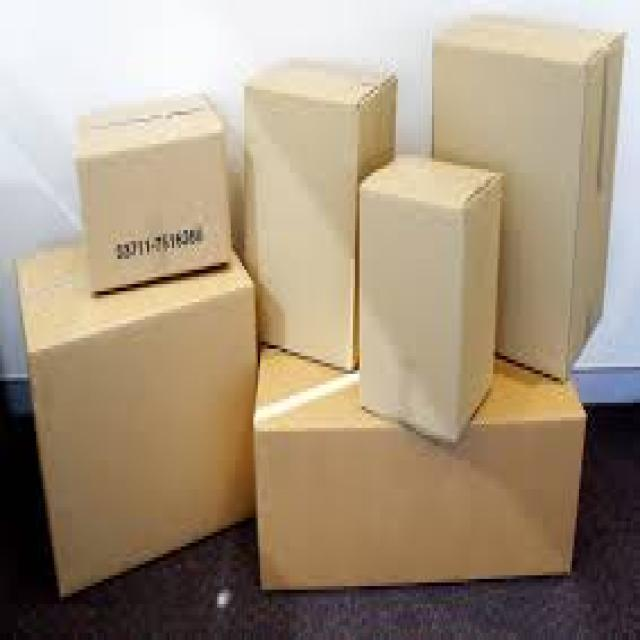Cardboard: (246, 56, 401, 371), (361, 153, 497, 447), (72, 86, 233, 290)
